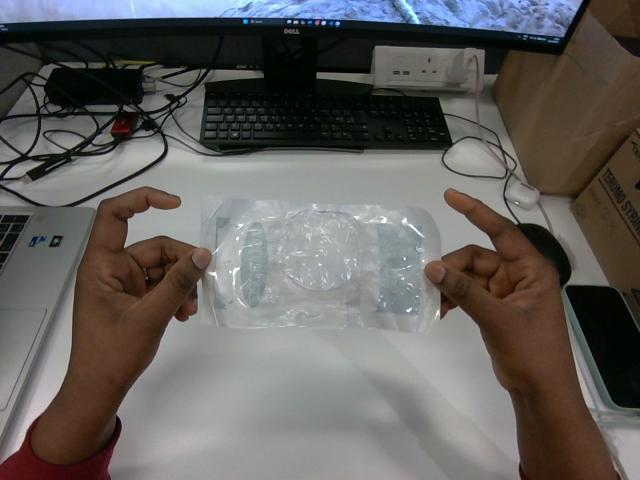gallipot: (201, 197, 440, 332)
